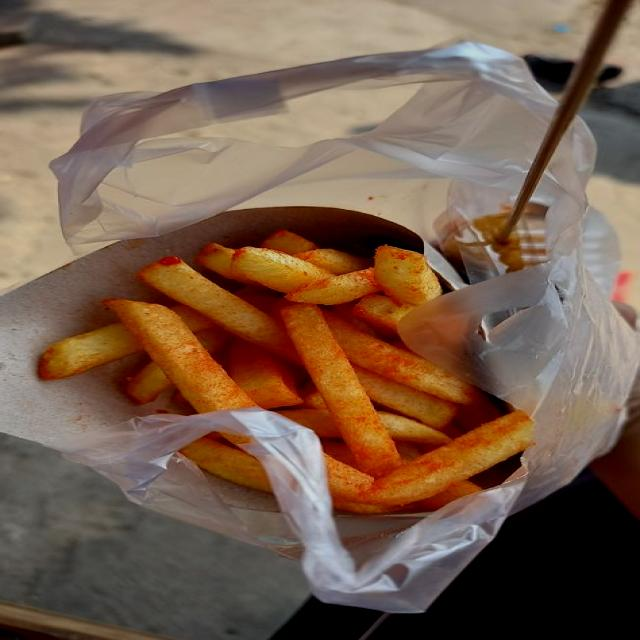kentang goreng: (36, 208, 532, 515)
